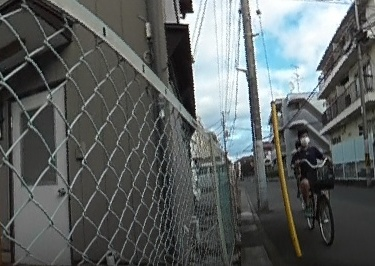person: (295, 127, 327, 226)
